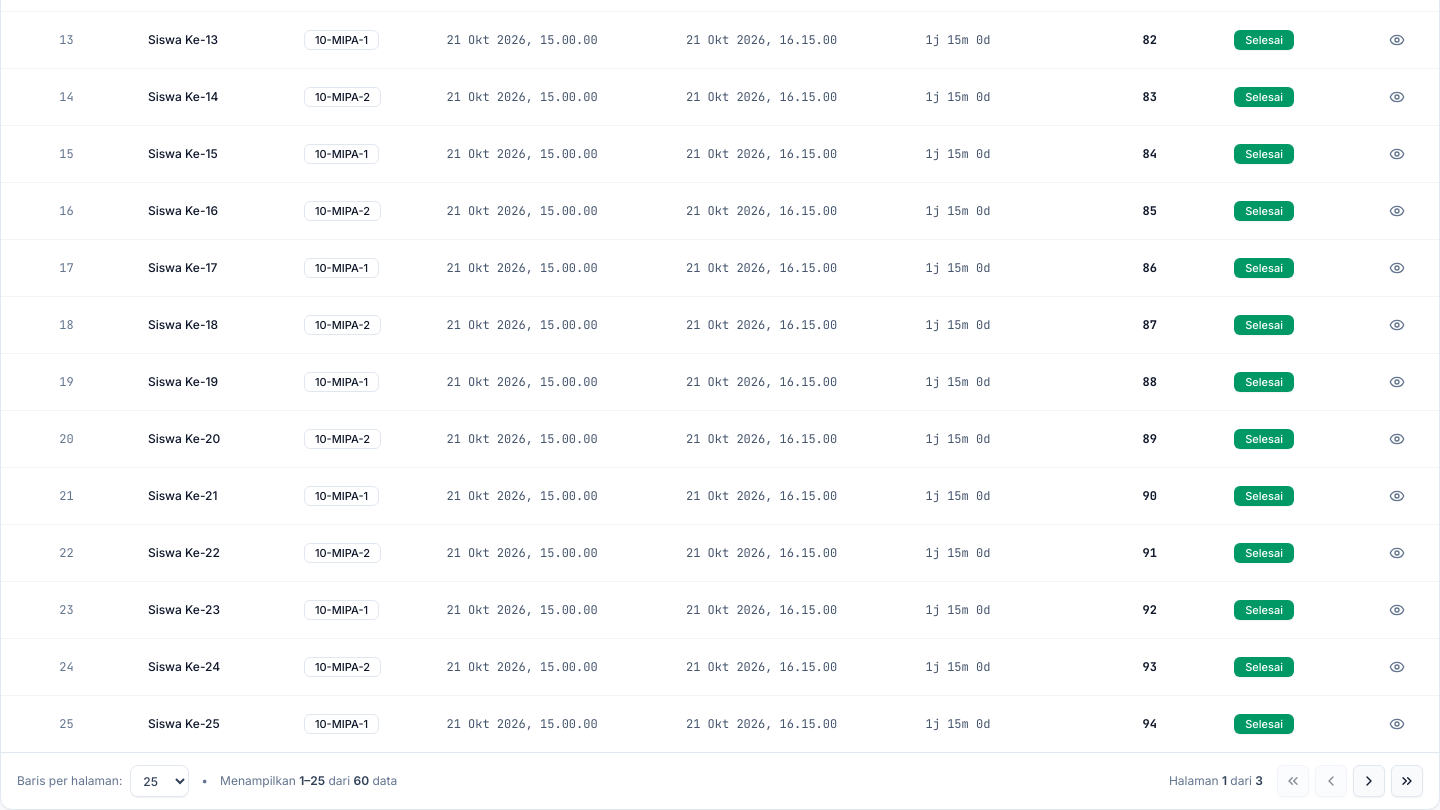
Test: Fitur Paginasi Tabel Admin (DataTablePagination) › Paginasi pada ExamReportView (/admin/ujian/[id]/laporan) › me-reset halaman ke 1 saat pencarian nama dilakukan
(page scrolled)
Note: Navigasi ke halaman 2
Click the button named "Ke halaman berikutnya" at (1369, 781), box [1353, 765, 1385, 797]
(page scrolled)
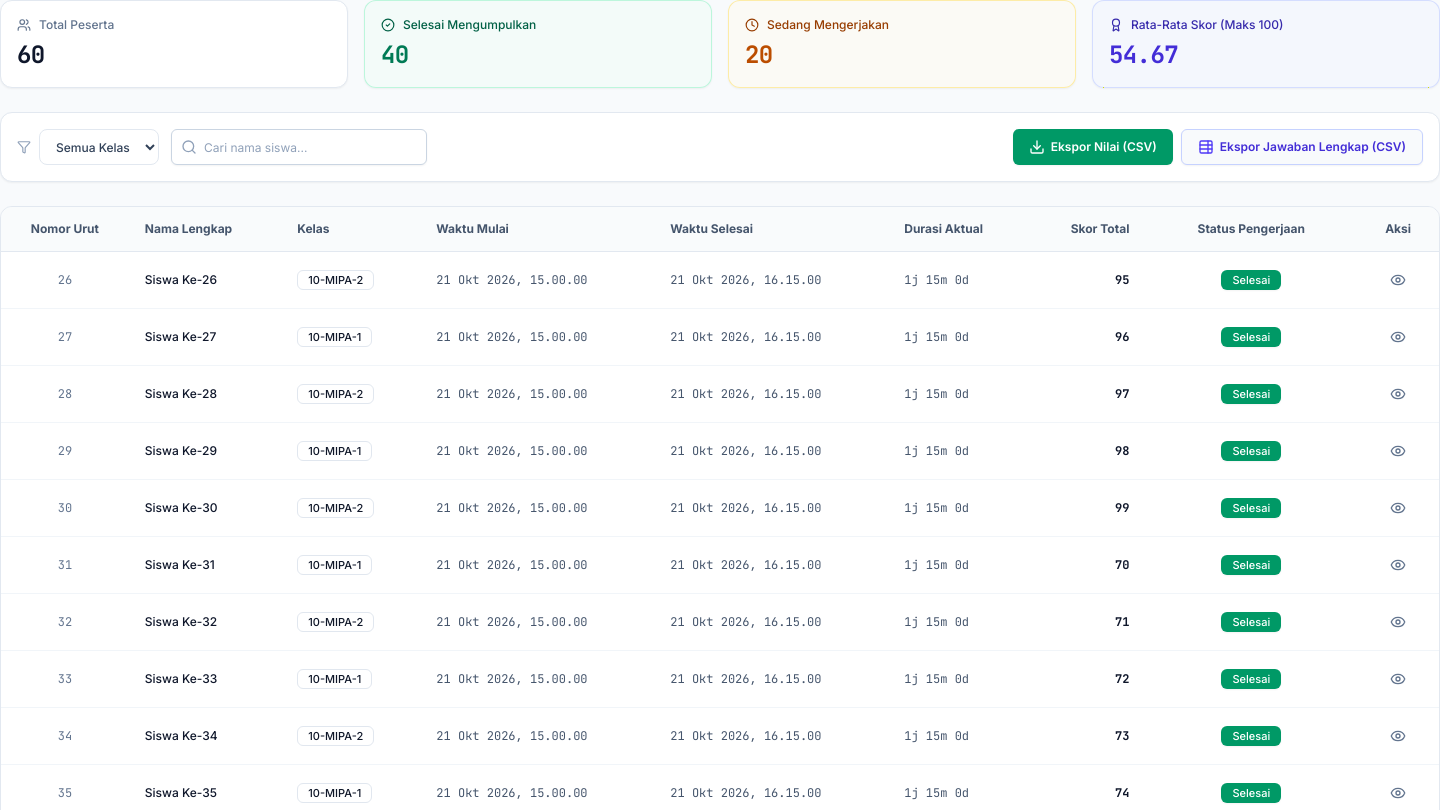
Result: the text "Siswa Ke-26" is shown at [129, 252, 281, 308]
Note: Lakukan pencarian nama
Type "Ke-05" into the field labelled "Cari nama siswa..." at (299, 147), box [171, 129, 427, 165]
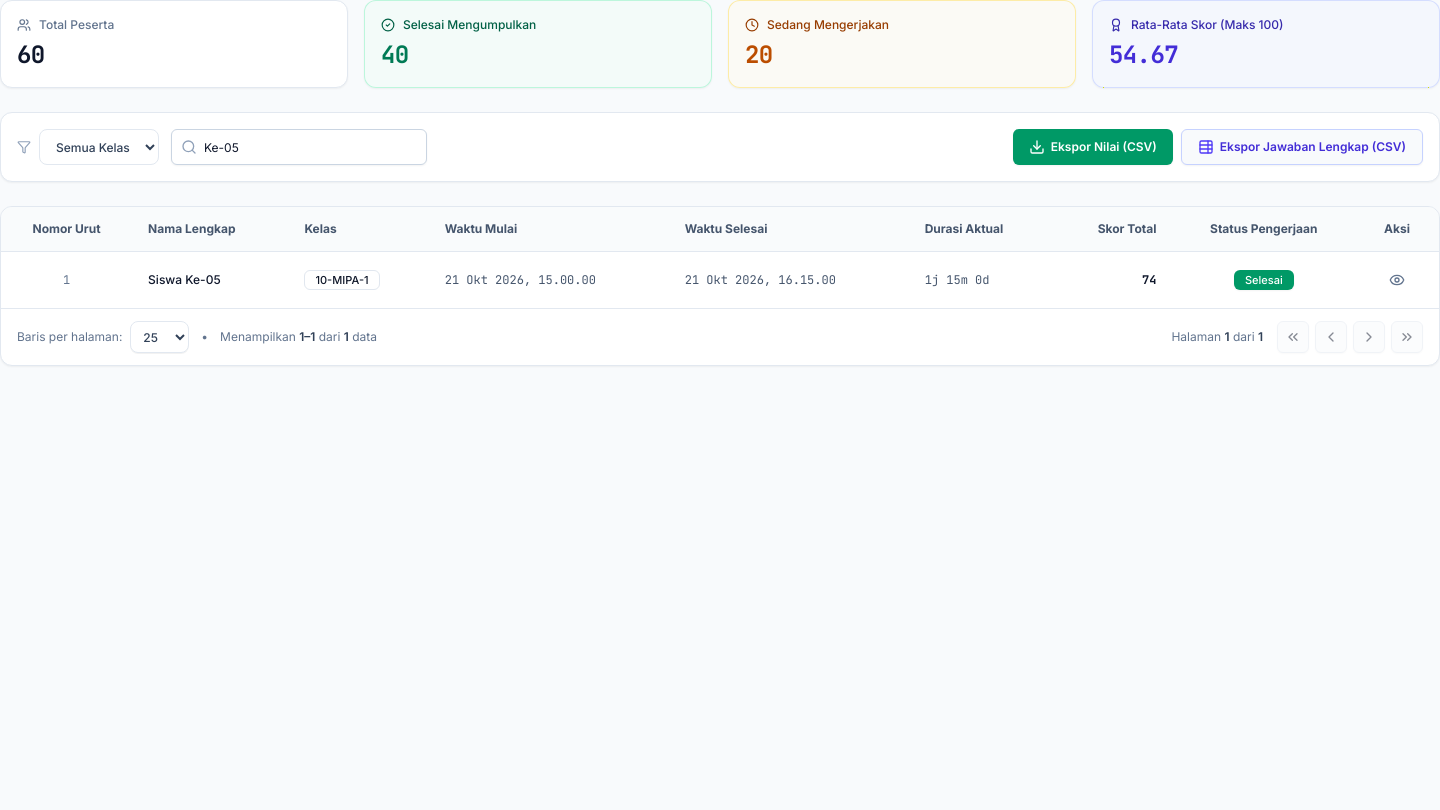
Result: the text "Siswa Ke-05" is shown at [132, 252, 288, 308]
Result: the text "Siswa Ke-26" is gone
Result: the element with test id "pagination-range-info" reads "Menampilkan 1–1 dari 1 data" at [220, 329, 377, 345]
